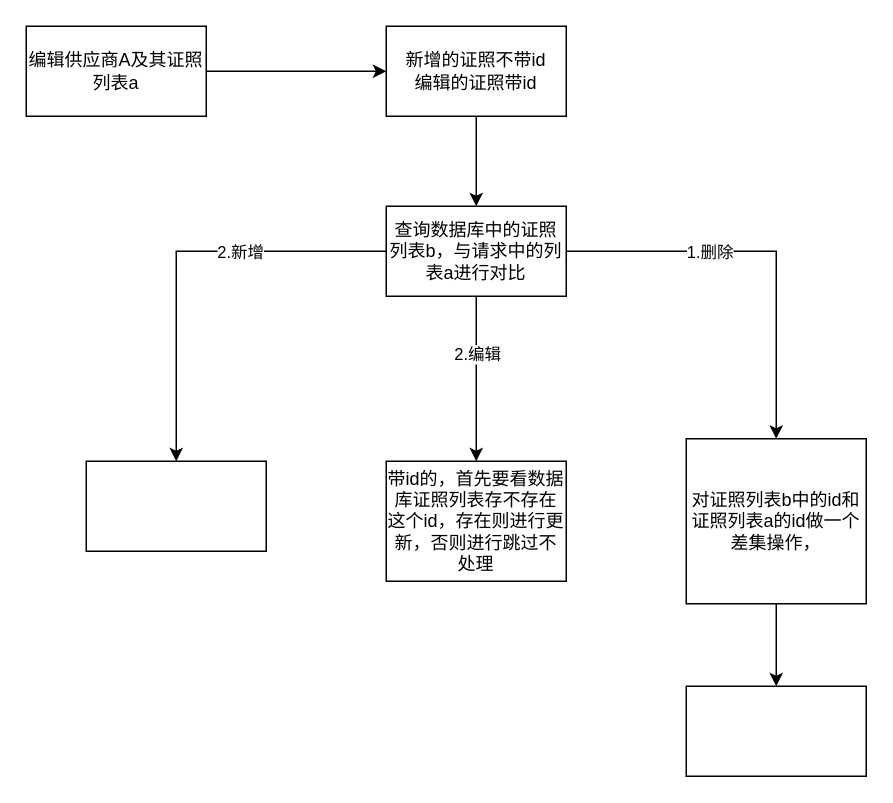
Image size: 893x803. Some labels were removed from this diagram. The shapes that lost their labels are listed below. From the top down, each one's centre as x and y in pixels, then its label:
At pixel 175 505: "处理新增：不带id的话直接进行插入".
At pixel 775 730: "得出来的是在数据库中存在但是请求中不存在的证照id，给予删除操作".
